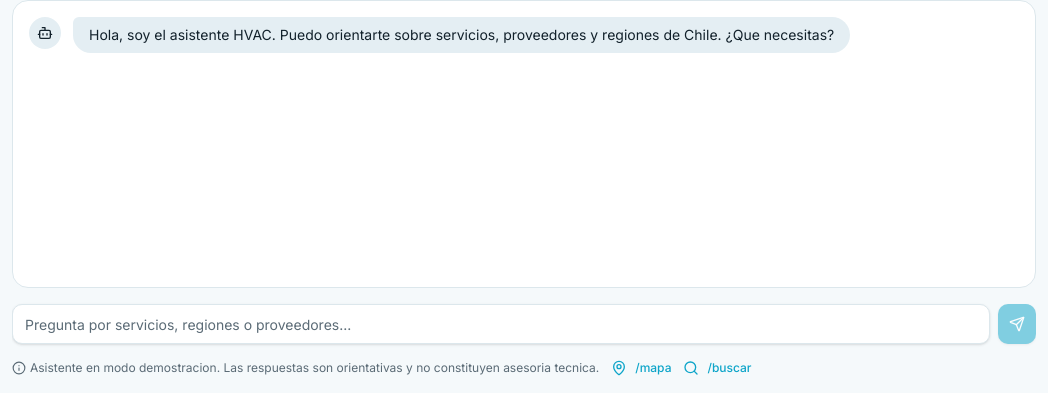
Test: ChatStub › envia el mensaje a /api/ai/chat y muestra la respuesta del backend
The width and height of the screenshot is (1048, 393).
Step 1. Type "Hola" into the field named "Escribe tu consulta" → (501, 324), box x1=12 y1=304 x2=990 y2=344
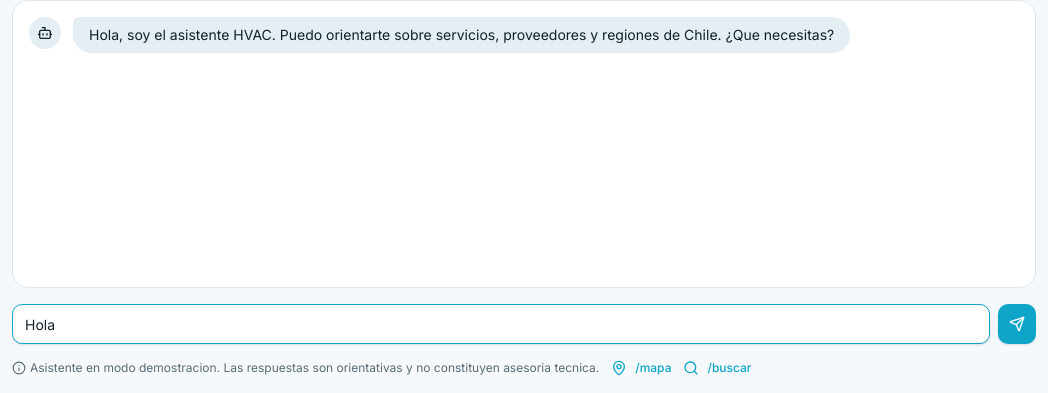
Step 2. Click the button named "Enviar mensaje" → (1017, 324), box x1=998 y1=304 x2=1036 y2=344
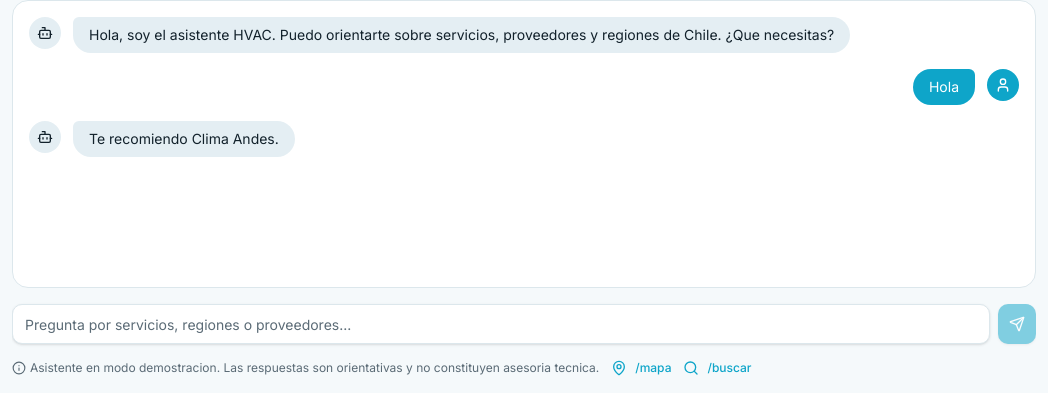
Check: the text "Te recomiendo Clima Andes." is shown, box x1=73 y1=121 x2=295 y2=157
Check: the text "Hola" is shown, box x1=913 y1=69 x2=975 y2=105
